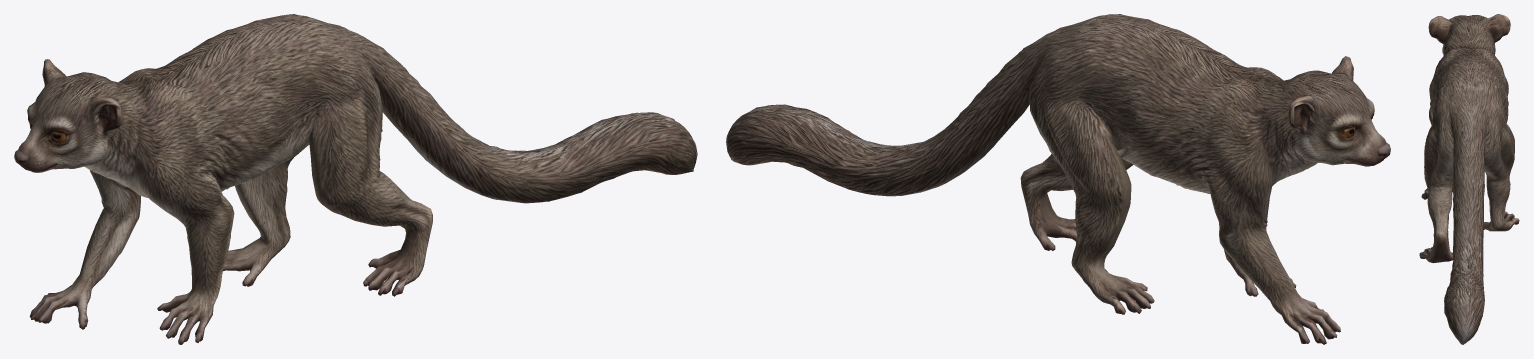
The model's file is notharctus.glb.
The picture shows the model from 3 angles, left to right: view 1: azimuth 30°, elevation 25°; view 2: azimuth 150°, elevation 25°; view 3: azimuth 270°, elevation 25°; orthographic projection. The views are drawn at different scales.
Parts seen in each view (by area): view 1: tripo_node_3e7e766e-b9b5-40dc-bf2c-91142135fa50; view 2: tripo_node_3e7e766e-b9b5-40dc-bf2c-91142135fa50; view 3: tripo_node_3e7e766e-b9b5-40dc-bf2c-91142135fa50.
Part boxes in pixels (bbox=[...]): tripo_node_3e7e766e-b9b5-40dc-bf2c-91142135fa50: bbox=[14, 14, 697, 344]; tripo_node_3e7e766e-b9b5-40dc-bf2c-91142135fa50: bbox=[726, 14, 1390, 344]; tripo_node_3e7e766e-b9b5-40dc-bf2c-91142135fa50: bbox=[1419, 14, 1519, 344].
Bounding box in the file's own units: 0.9987 × 0.3733 × 0.2074.
Materials: 1 (1 with a texture image).
